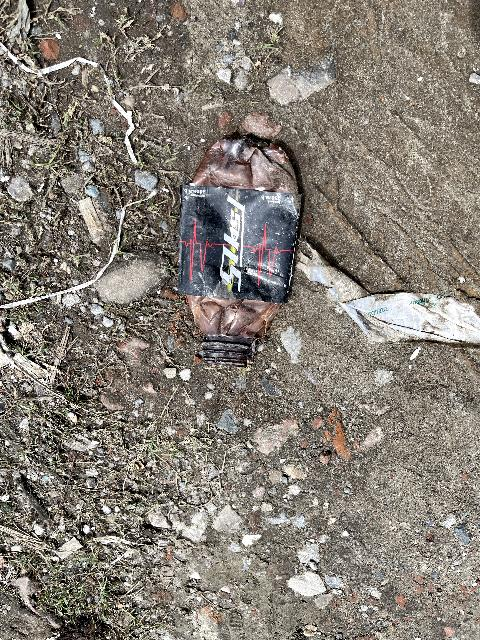bottle: (162, 128, 312, 385)
